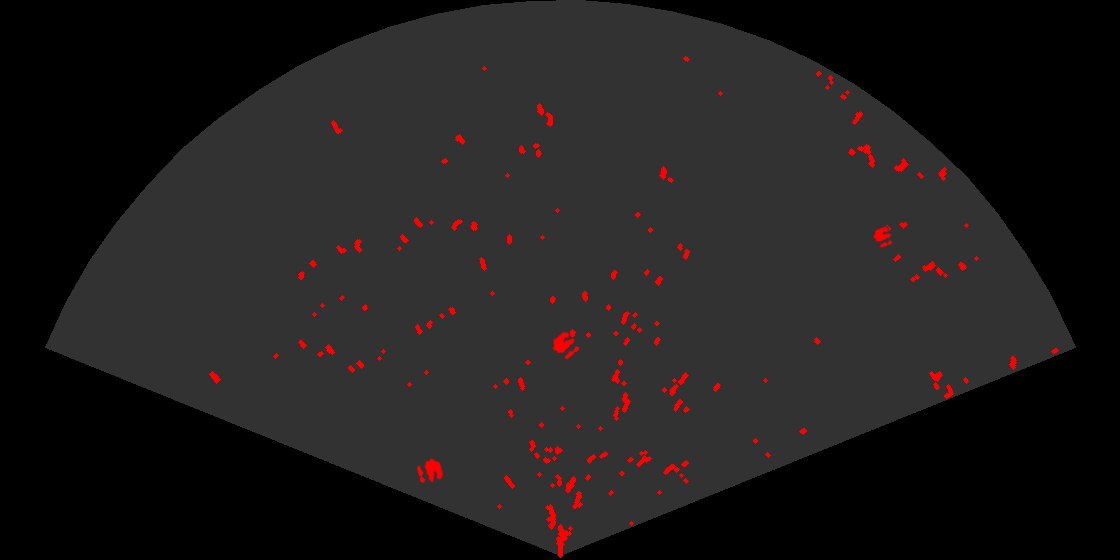ball: (551, 330, 581, 361), (415, 457, 445, 485), (871, 225, 894, 249)
